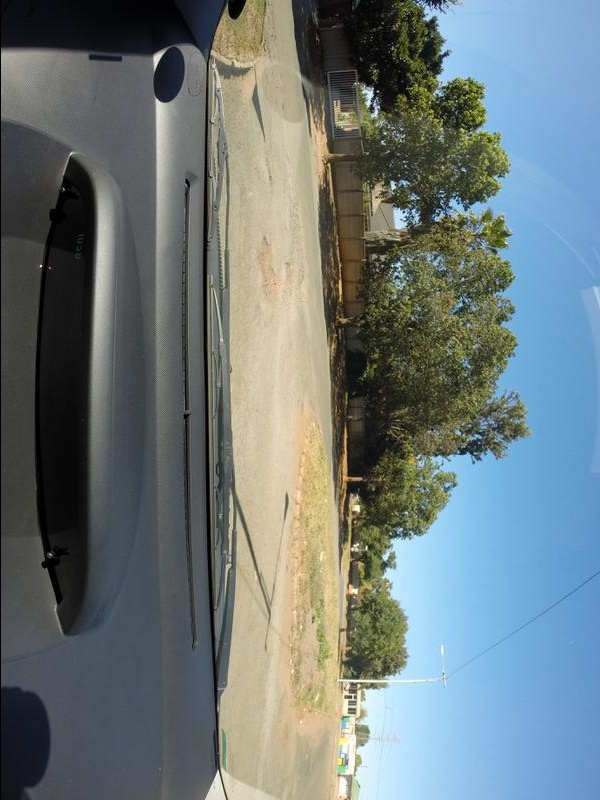pothole: (257, 238, 274, 302), (282, 263, 290, 298), (266, 167, 271, 191)
